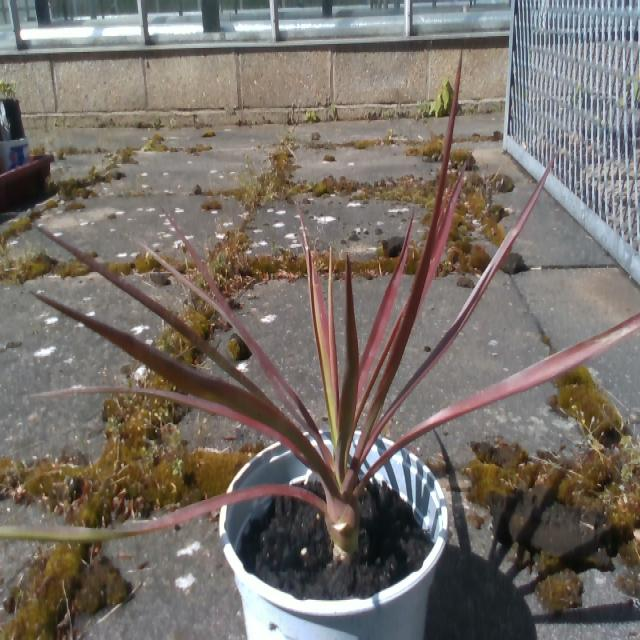Yucca-aloifolia: (373, 160, 552, 435), (358, 313, 639, 488), (358, 53, 461, 449), (40, 228, 266, 399), (45, 297, 301, 436), (167, 215, 316, 431), (40, 388, 293, 448), (73, 484, 326, 541), (359, 217, 412, 397), (138, 243, 239, 332), (303, 223, 337, 439), (416, 172, 463, 312), (336, 257, 358, 472), (0, 527, 67, 540)
